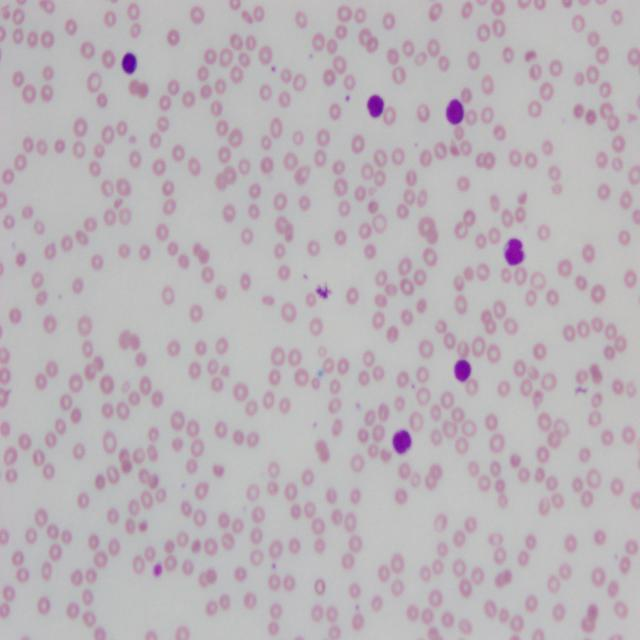cell: (504, 238, 525, 265), (446, 98, 464, 125), (392, 430, 411, 453), (121, 52, 138, 75), (454, 360, 471, 382), (368, 95, 384, 118)
